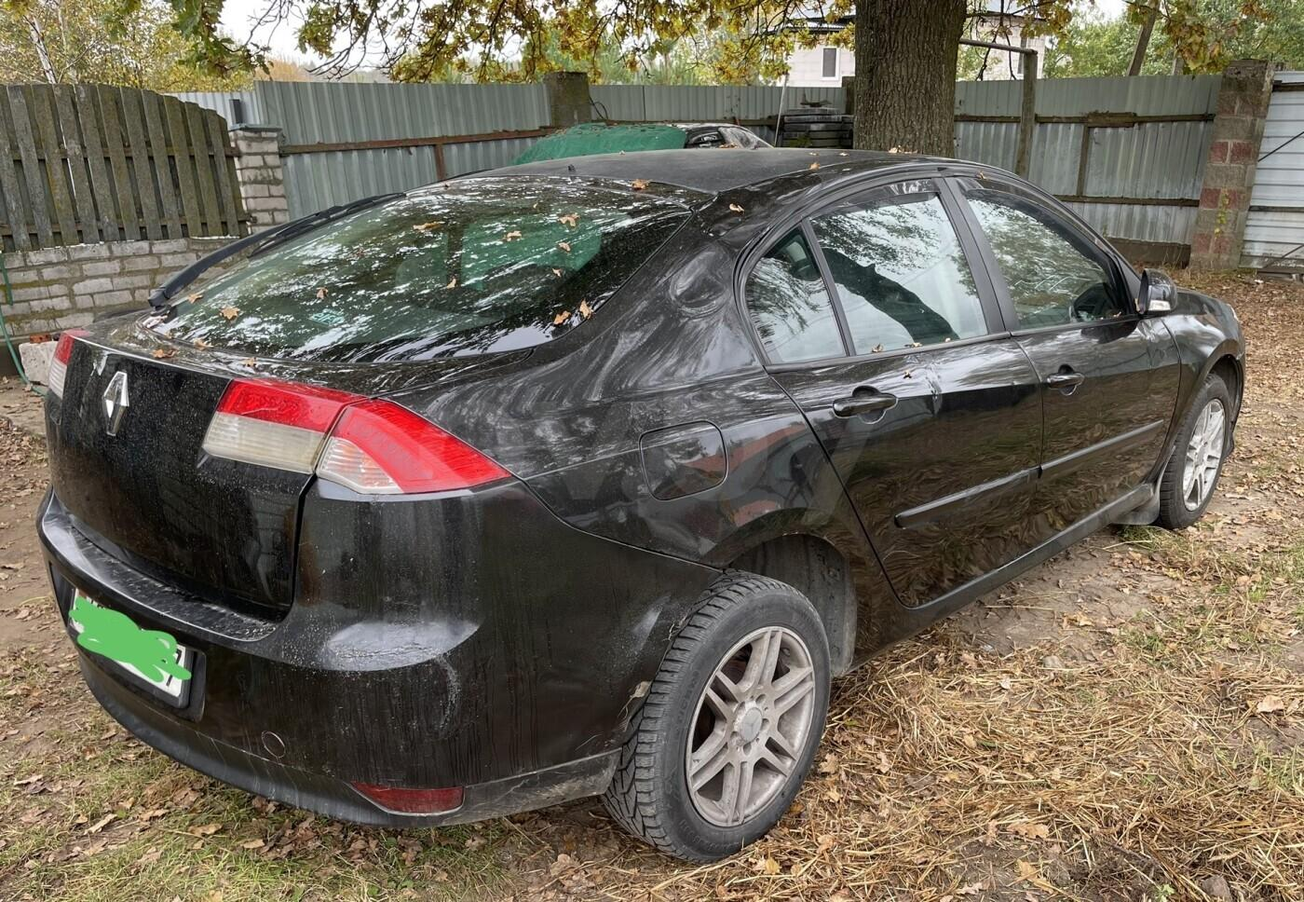Laguna_2007-2011: (34, 148, 1246, 861)
